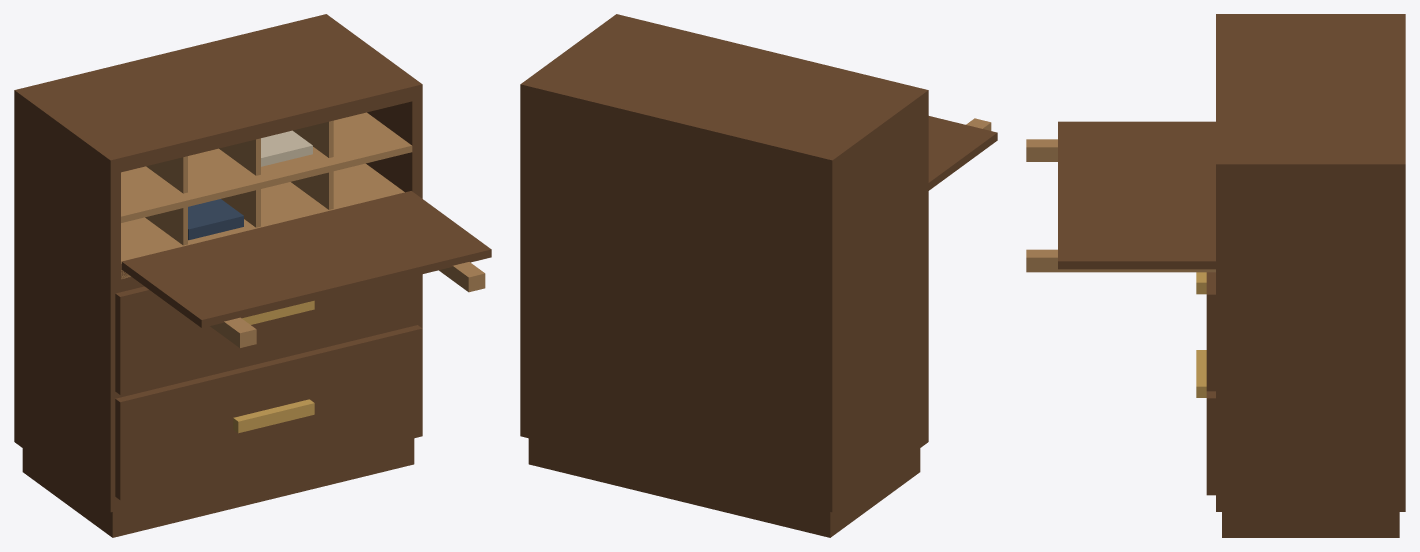
Rendered from FN_Desk_Bureau.obj.
The picture shows the model from 3 angles, left to right: view 1: azimuth 30°, elevation 25°; view 2: azimuth 150°, elevation 25°; view 3: azimuth 270°, elevation 25°; orthographic projection.
Parts seen in each view (by area): view 1: FN_Desk_Bureau; view 2: FN_Desk_Bureau; view 3: FN_Desk_Bureau.
Part boxes in pixels (x1,y1,x2,y2): FN_Desk_Bureau: (14, 14, 491, 537); FN_Desk_Bureau: (520, 14, 997, 537); FN_Desk_Bureau: (1026, 14, 1405, 537).
Bounding box in the file's own units: 0.9 × 1.05 × 0.96.
1 material, 1 textured.
